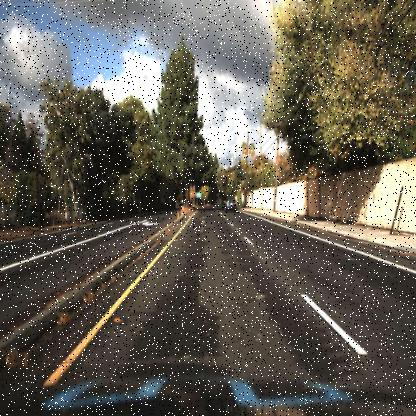car: (225, 196, 238, 214)
